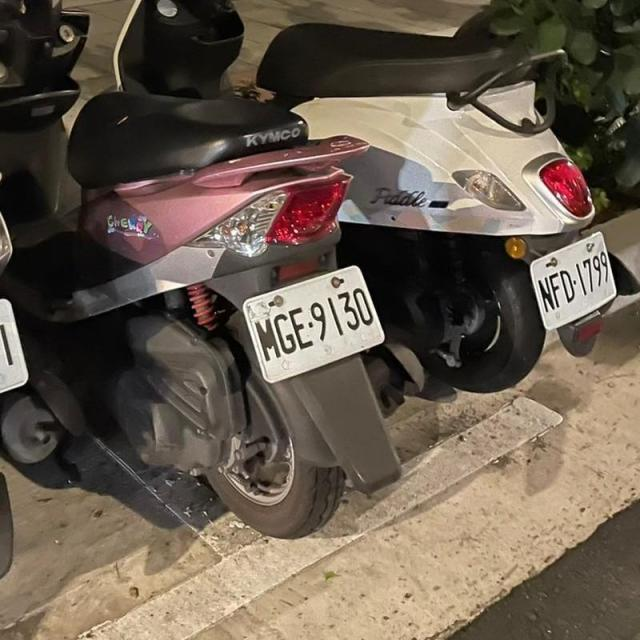W: (236, 254, 394, 389), (523, 222, 630, 336), (0, 290, 43, 437)
